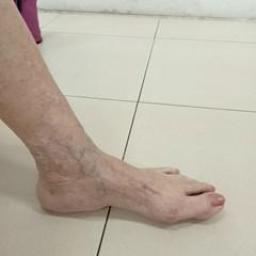Medial View -Left Foot-: (15, 108, 242, 241)
